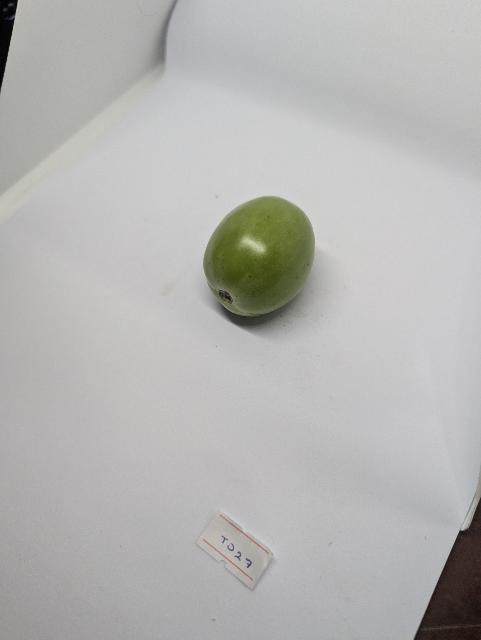green: (202, 195, 317, 319)
